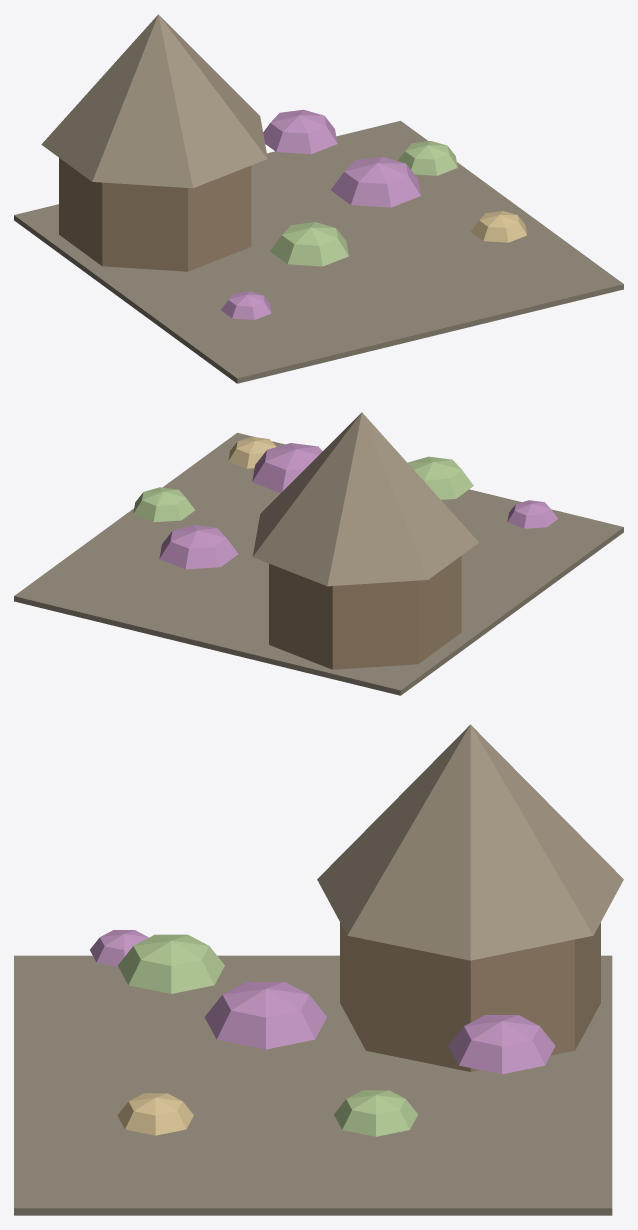
3 renders of one model, top to bottom at view 1: azimuth 30°, elevation 25°; view 2: azimuth 150°, elevation 25°; view 3: azimuth 270°, elevation 25°, orthographic. The views are drawn at different scales.
Visible parts, largest first — view 1: body; view 2: body; view 3: body.
Part boxes in pixels (bbox=[...]): body: bbox=[14, 14, 623, 383]; body: bbox=[14, 412, 623, 695]; body: bbox=[14, 724, 623, 1215].
Bounding box in the file's own units: 7.6 × 4.18 × 7.75.
